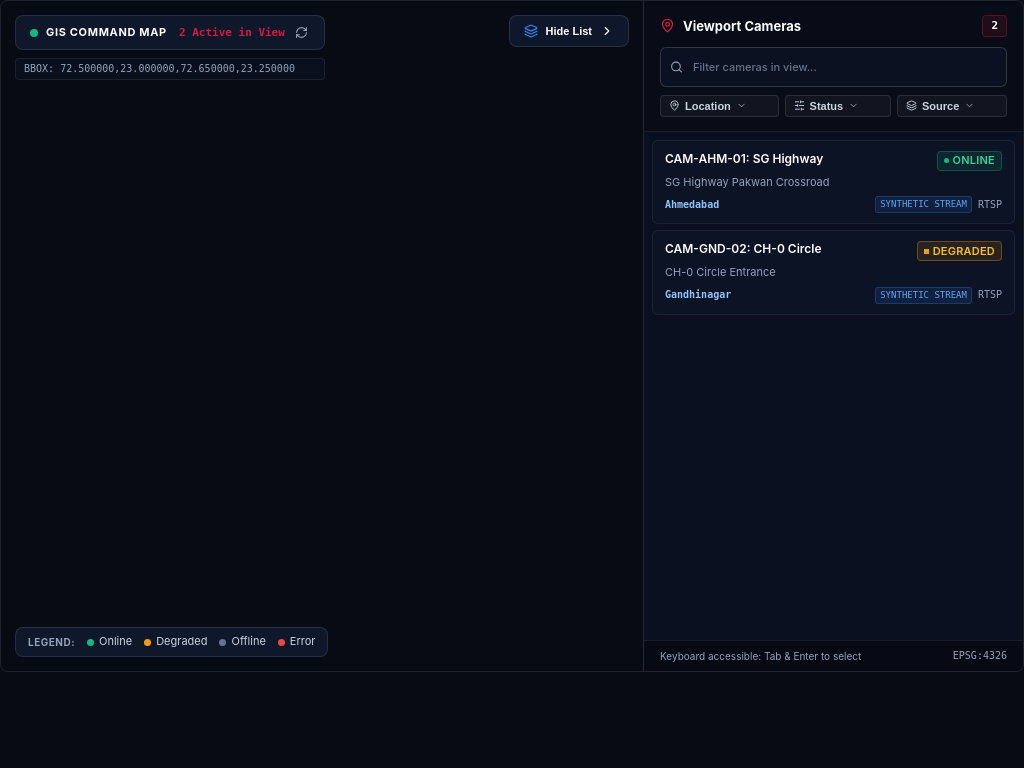
Test: GIS Camera Map Component (Phase 4B) › opens CameraDetailDrawer when a camera is selected from the accessible list
This screenshot has width=1024, height=768.
Note: Click camera in list
Click the text "CAM-AHM-01: SG Highway" at {"x": 744, "y": 158}, box [665,151,823,166]
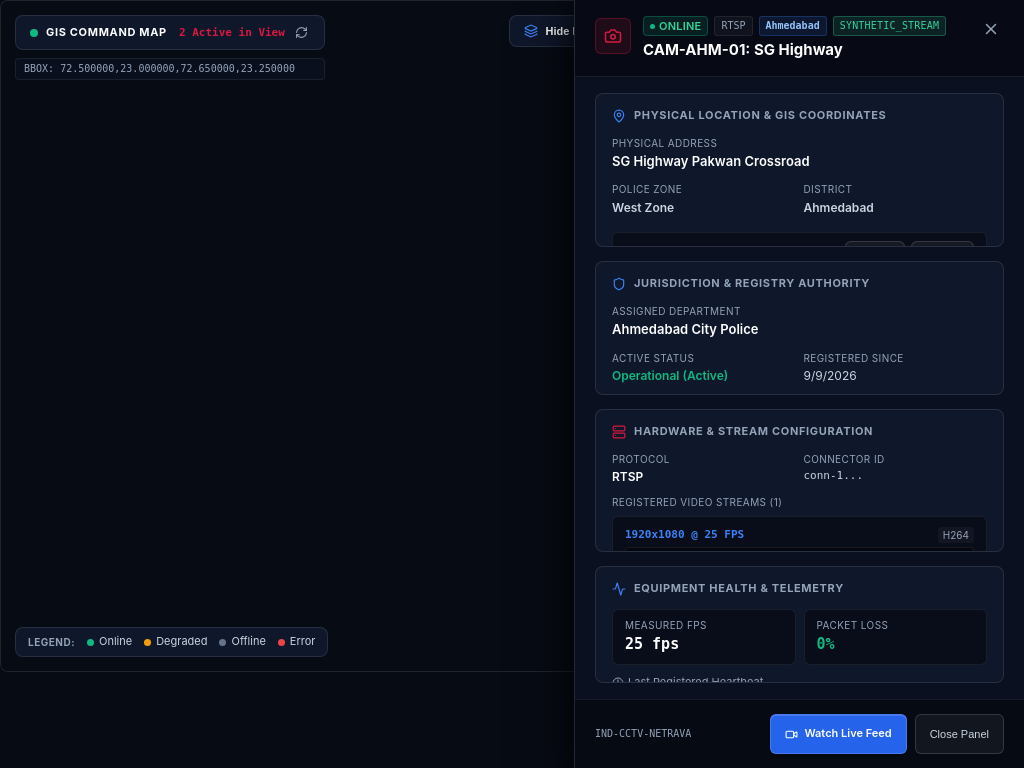
Expected: the dialog is shown, [574,0,1023,767]
